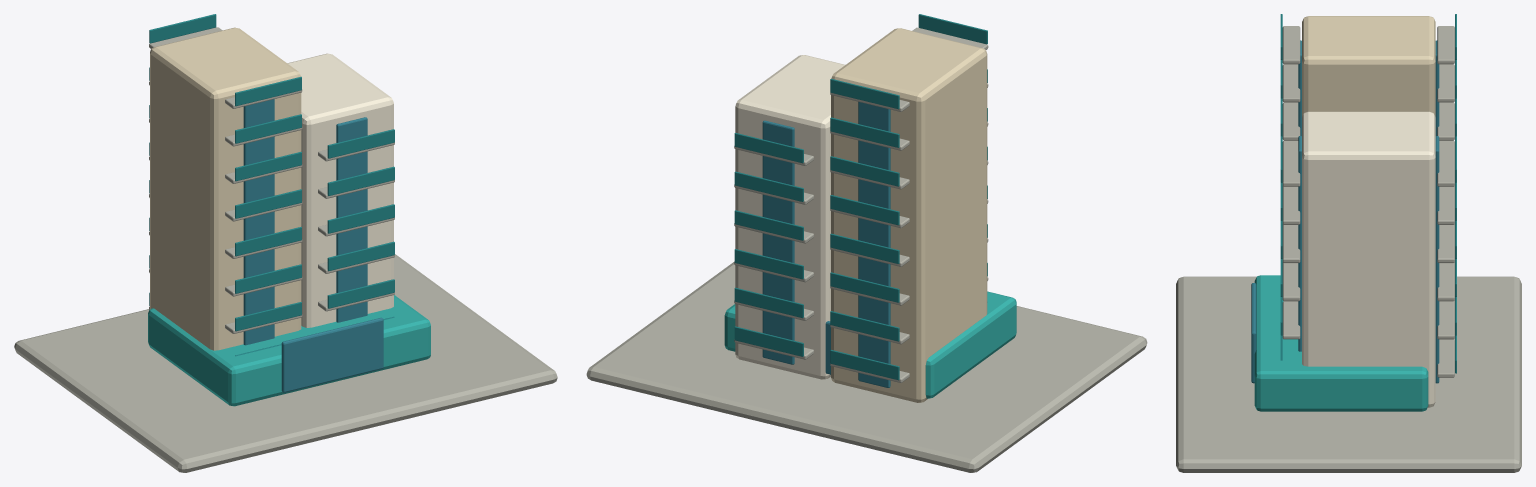
Rendered from condo-bg-v2.glb.
3 views of the same model, side by side, from view 1: azimuth 30°, elevation 25°; view 2: azimuth 150°, elevation 25°; view 3: azimuth 270°, elevation 25° (orthographic). The views are drawn at different scales.
Visible parts, largest first — view 1: Ground, BACKGROUND CONDO FAMILY · Warm plaster, BACKGROUND CONDO FAMILY · Chalk, BACKGROUND CONDO FAMILY · Graphic glass, BACKGROUND CONDO FAMILY · Deep teal, BACKGROUND CONDO FAMILY · Weathered teal, BACKGROUND CONDO FAMILY · Concrete; view 2: Ground, BACKGROUND CONDO FAMILY · Warm plaster, BACKGROUND CONDO FAMILY · Chalk, BACKGROUND CONDO FAMILY · Deep teal, BACKGROUND CONDO FAMILY · Graphic glass, BACKGROUND CONDO FAMILY · Weathered teal, BACKGROUND CONDO FAMILY · Concrete; view 3: Ground, BACKGROUND CONDO FAMILY · Chalk, BACKGROUND CONDO FAMILY · Warm plaster, BACKGROUND CONDO FAMILY · Concrete, BACKGROUND CONDO FAMILY · Weathered teal, BACKGROUND CONDO FAMILY · Graphic glass, BACKGROUND CONDO FAMILY · Deep teal.
Part boxes in pixels (x1=…): Ground: x1=14, y1=254, x2=557, y2=472; BACKGROUND CONDO FAMILY · Warm plaster: x1=150, y1=27, x2=301, y2=350; BACKGROUND CONDO FAMILY · Chalk: x1=287, y1=53, x2=393, y2=327; BACKGROUND CONDO FAMILY · Graphic glass: x1=243, y1=99, x2=383, y2=392; BACKGROUND CONDO FAMILY · Deep teal: x1=149, y1=14, x2=394, y2=356; BACKGROUND CONDO FAMILY · Weathered teal: x1=148, y1=295, x2=430, y2=406; BACKGROUND CONDO FAMILY · Concrete: x1=149, y1=27, x2=394, y2=333; Ground: x1=586, y1=261, x2=1147, y2=472; BACKGROUND CONDO FAMILY · Warm plaster: x1=831, y1=28, x2=987, y2=402; BACKGROUND CONDO FAMILY · Chalk: x1=735, y1=55, x2=845, y2=379; BACKGROUND CONDO FAMILY · Deep teal: x1=734, y1=14, x2=987, y2=380; BACKGROUND CONDO FAMILY · Graphic glass: x1=762, y1=102, x2=890, y2=387; BACKGROUND CONDO FAMILY · Weathered teal: x1=724, y1=291, x2=1016, y2=398; BACKGROUND CONDO FAMILY · Concrete: x1=734, y1=27, x2=988, y2=382; Ground: x1=1176, y1=276, x2=1521, y2=472; BACKGROUND CONDO FAMILY · Chalk: x1=1302, y1=111, x2=1435, y2=407; BACKGROUND CONDO FAMILY · Warm plaster: x1=1302, y1=16, x2=1435, y2=116; BACKGROUND CONDO FAMILY · Concrete: x1=1282, y1=26, x2=1454, y2=377; BACKGROUND CONDO FAMILY · Weathered teal: x1=1254, y1=275, x2=1428, y2=411; BACKGROUND CONDO FAMILY · Graphic glass: x1=1251, y1=40, x2=1439, y2=383; BACKGROUND CONDO FAMILY · Deep teal: x1=1280, y1=14, x2=1456, y2=373.
Size of the model in its own units: 9 by 7.26 by 6.98.
Materials: 1 (1 with a texture image).
